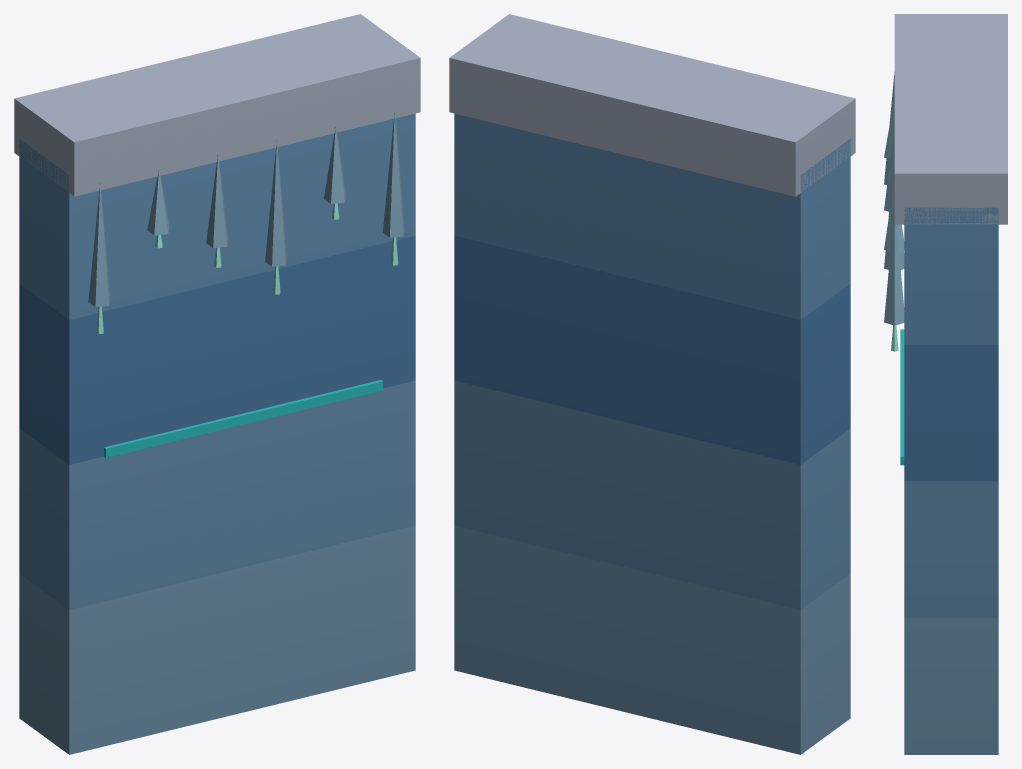
File: ice_wall.glb
3 views of the same model, side by side, from view 1: azimuth 30°, elevation 25°; view 2: azimuth 150°, elevation 25°; view 3: azimuth 270°, elevation 25° (orthographic). The views are drawn at different scales.
Parts seen in each view (by area): view 1: ice_wall; view 2: ice_wall; view 3: ice_wall.
Boxes of the visible parts, x1,y1,x2,y2 form: ice_wall: (14,14,420,754); ice_wall: (449,14,855,754); ice_wall: (884,14,1007,754).
Bounding box in the file's own units: 2 × 3.4 × 0.6571.
